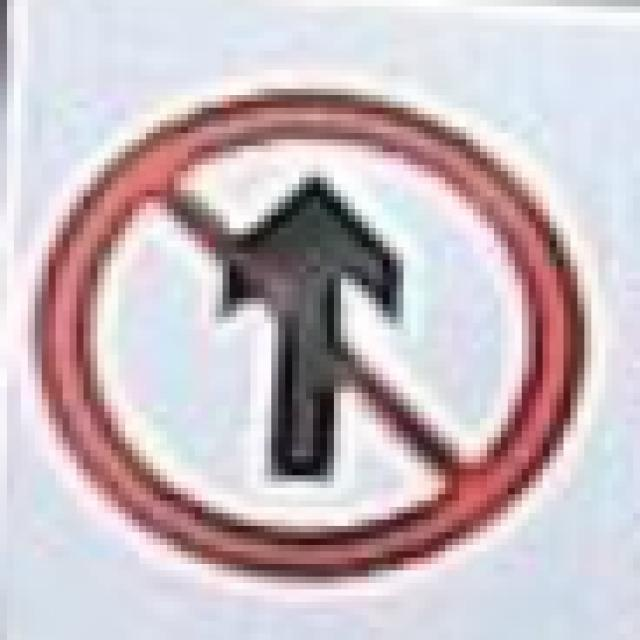Not that Direction: (47, 78, 588, 595)
